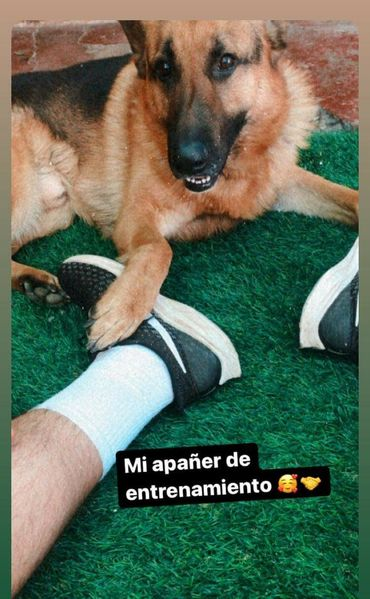dog: (12, 23, 350, 347)
